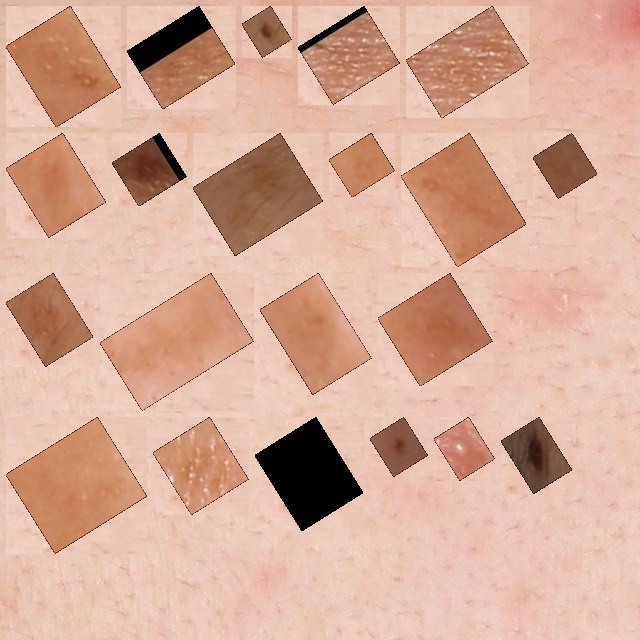melasma: (111, 284, 242, 399), (17, 428, 136, 542), (412, 144, 515, 256), (204, 144, 312, 244), (17, 17, 110, 116), (417, 17, 518, 107), (271, 284, 360, 383), (389, 284, 481, 375), (266, 428, 352, 520), (138, 17, 224, 98), (17, 144, 95, 226), (309, 17, 389, 93), (164, 428, 237, 503), (17, 284, 82, 355), (123, 144, 175, 195), (340, 144, 384, 186), (544, 144, 586, 187)
nevus: (512, 428, 561, 482), (381, 428, 417, 465), (253, 17, 280, 46)
pustule: (445, 428, 484, 469)
